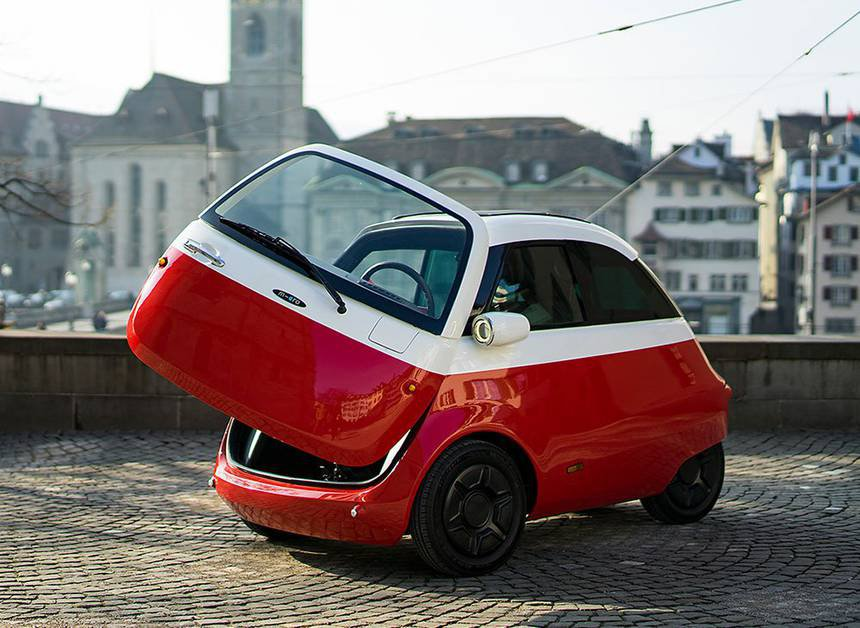car: (119, 134, 730, 578)
